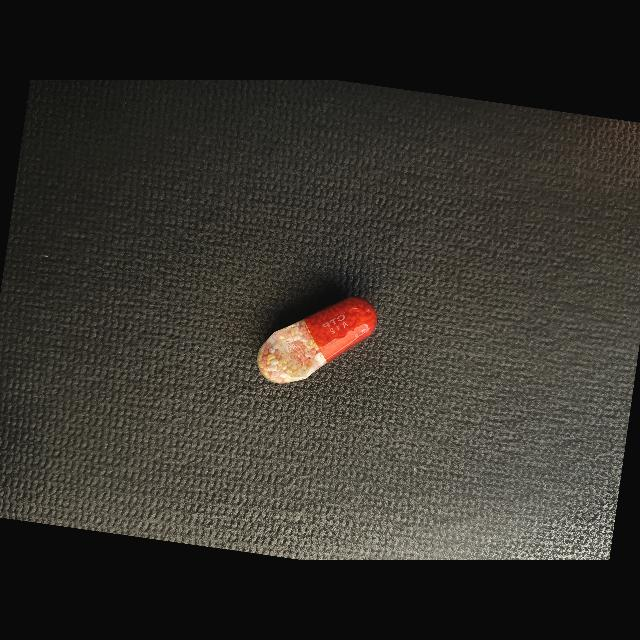Defective Capsule: (257, 297, 377, 384)
